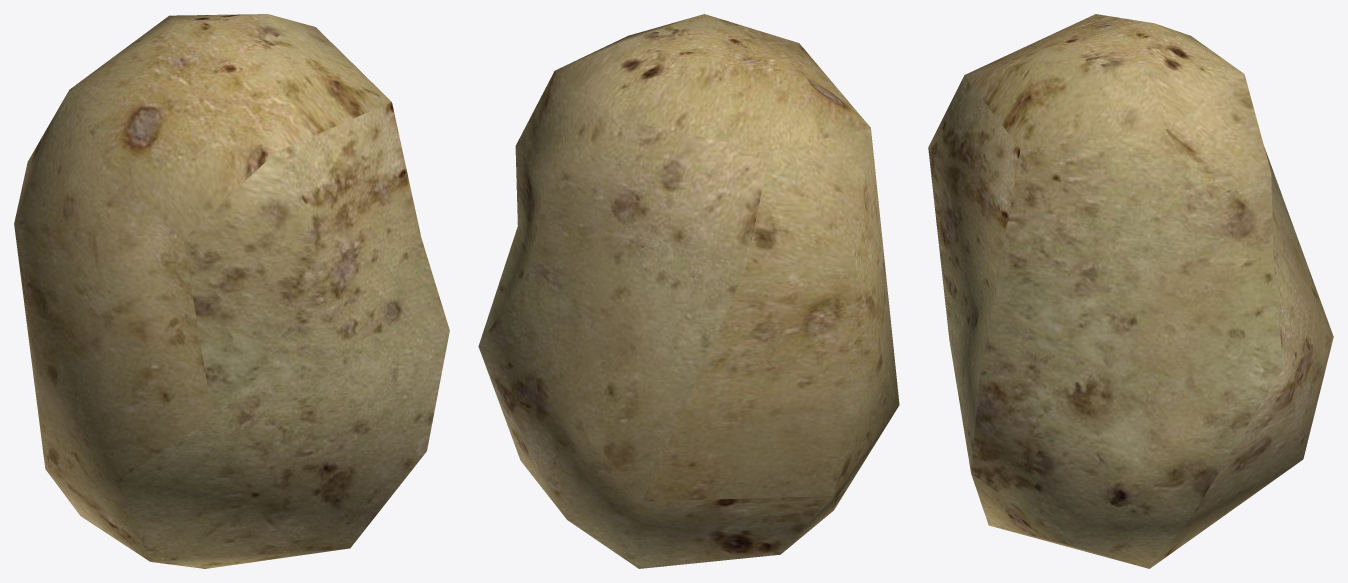
File: kartoffel.fbx
The picture shows the model from 3 angles, left to right: view 1: azimuth 30°, elevation 25°; view 2: azimuth 150°, elevation 25°; view 3: azimuth 270°, elevation 25°; orthographic projection. The views are drawn at different scales.
Parts seen in each view (by area): view 1: POH-TAY-TOE.001; view 2: POH-TAY-TOE.001; view 3: POH-TAY-TOE.001.
Boxes of the visible parts, <box> form: POH-TAY-TOE.001: <box>14,14,449,568</box>; POH-TAY-TOE.001: <box>478,14,899,568</box>; POH-TAY-TOE.001: <box>928,14,1333,568</box>.
Bounding box in the file's own units: 9.76 × 12.88 × 9.4.
1 material, 1 textured.
